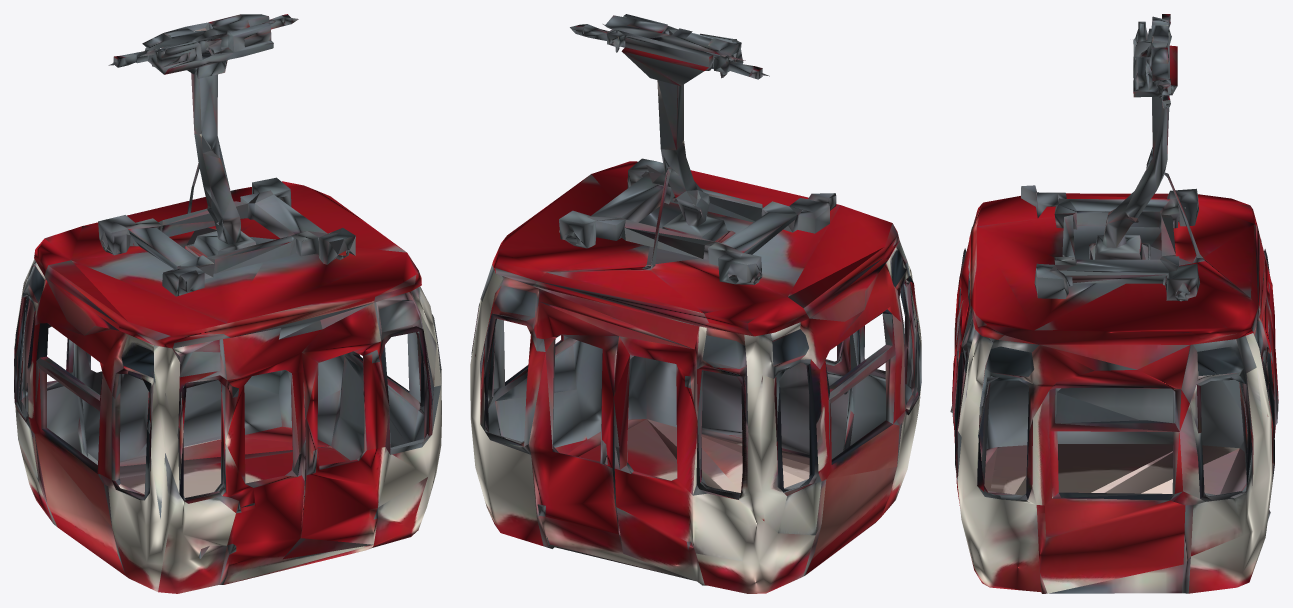
The model's file is fv_gondola_cabin.glb.
The picture shows the model from 3 angles, left to right: view 1: azimuth 30°, elevation 25°; view 2: azimuth 150°, elevation 25°; view 3: azimuth 270°, elevation 25°; orthographic projection. The views are drawn at different scales.
Parts seen in each view (by area): view 1: fv_gondola_cabin; view 2: fv_gondola_cabin; view 3: fv_gondola_cabin.
Boxes of the visible parts, x1,y1,x2,y2 form: fv_gondola_cabin: (14,14,441,593); fv_gondola_cabin: (470,14,921,593); fv_gondola_cabin: (950,14,1278,593).
Bounding box in the file's own units: 1.95 × 2.79 × 1.71.
Materials: 1 (1 with a texture image).
